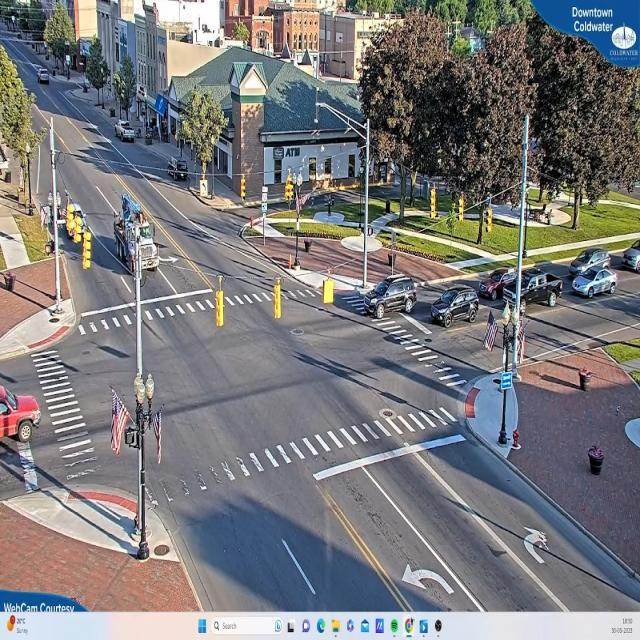car: (488, 270, 564, 308), (354, 277, 416, 319), (430, 289, 480, 327), (568, 266, 616, 298), (569, 250, 613, 276), (117, 124, 137, 143), (39, 68, 51, 83)
truck: (115, 191, 170, 288)
